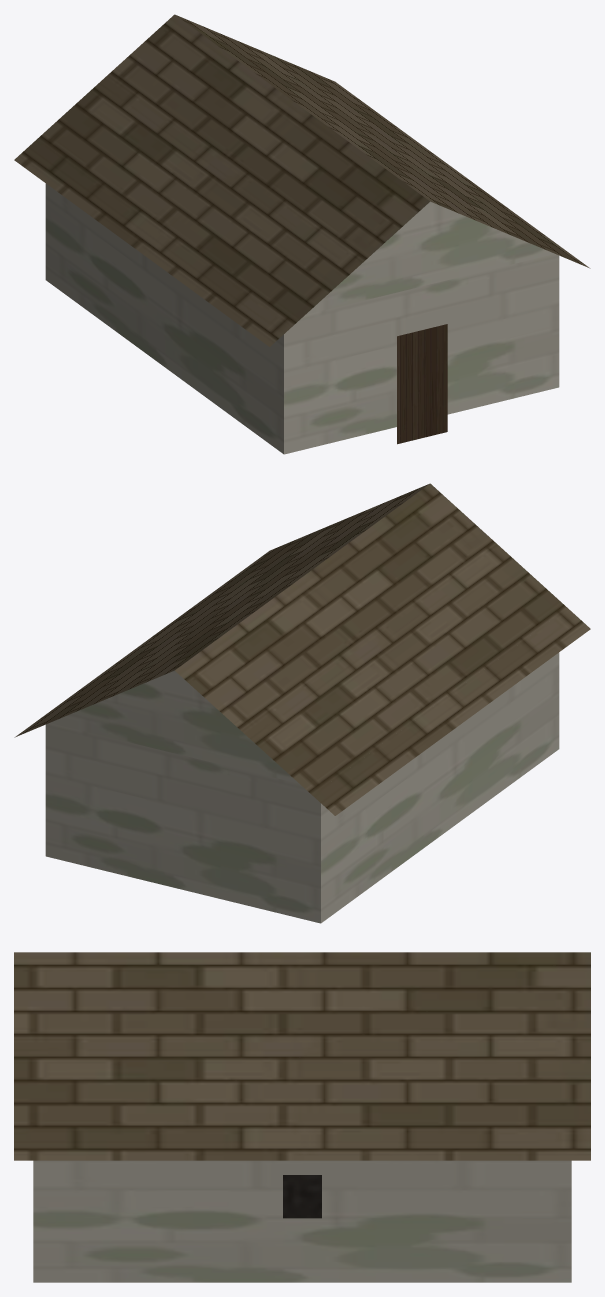
Rendered from ae_forest_stone_large_hall_lod2.glb.
3 renders of one model, top to bottom at view 1: azimuth 30°, elevation 25°; view 2: azimuth 150°, elevation 25°; view 3: azimuth 270°, elevation 25°, orthographic. The views are drawn at different scales.
Visible parts, largest first — view 1: ae_forest_stone_large_hall_lod2; view 2: ae_forest_stone_large_hall_lod2; view 3: ae_forest_stone_large_hall_lod2.
Part boxes in pixels (x1,y1,x2,y2): ae_forest_stone_large_hall_lod2: (14,14,590,454); ae_forest_stone_large_hall_lod2: (14,483,590,923); ae_forest_stone_large_hall_lod2: (14,952,590,1282).
Bounding box in the file's own units: 7 × 5.05 × 9.65.
Materials: 1 (1 with a texture image).
